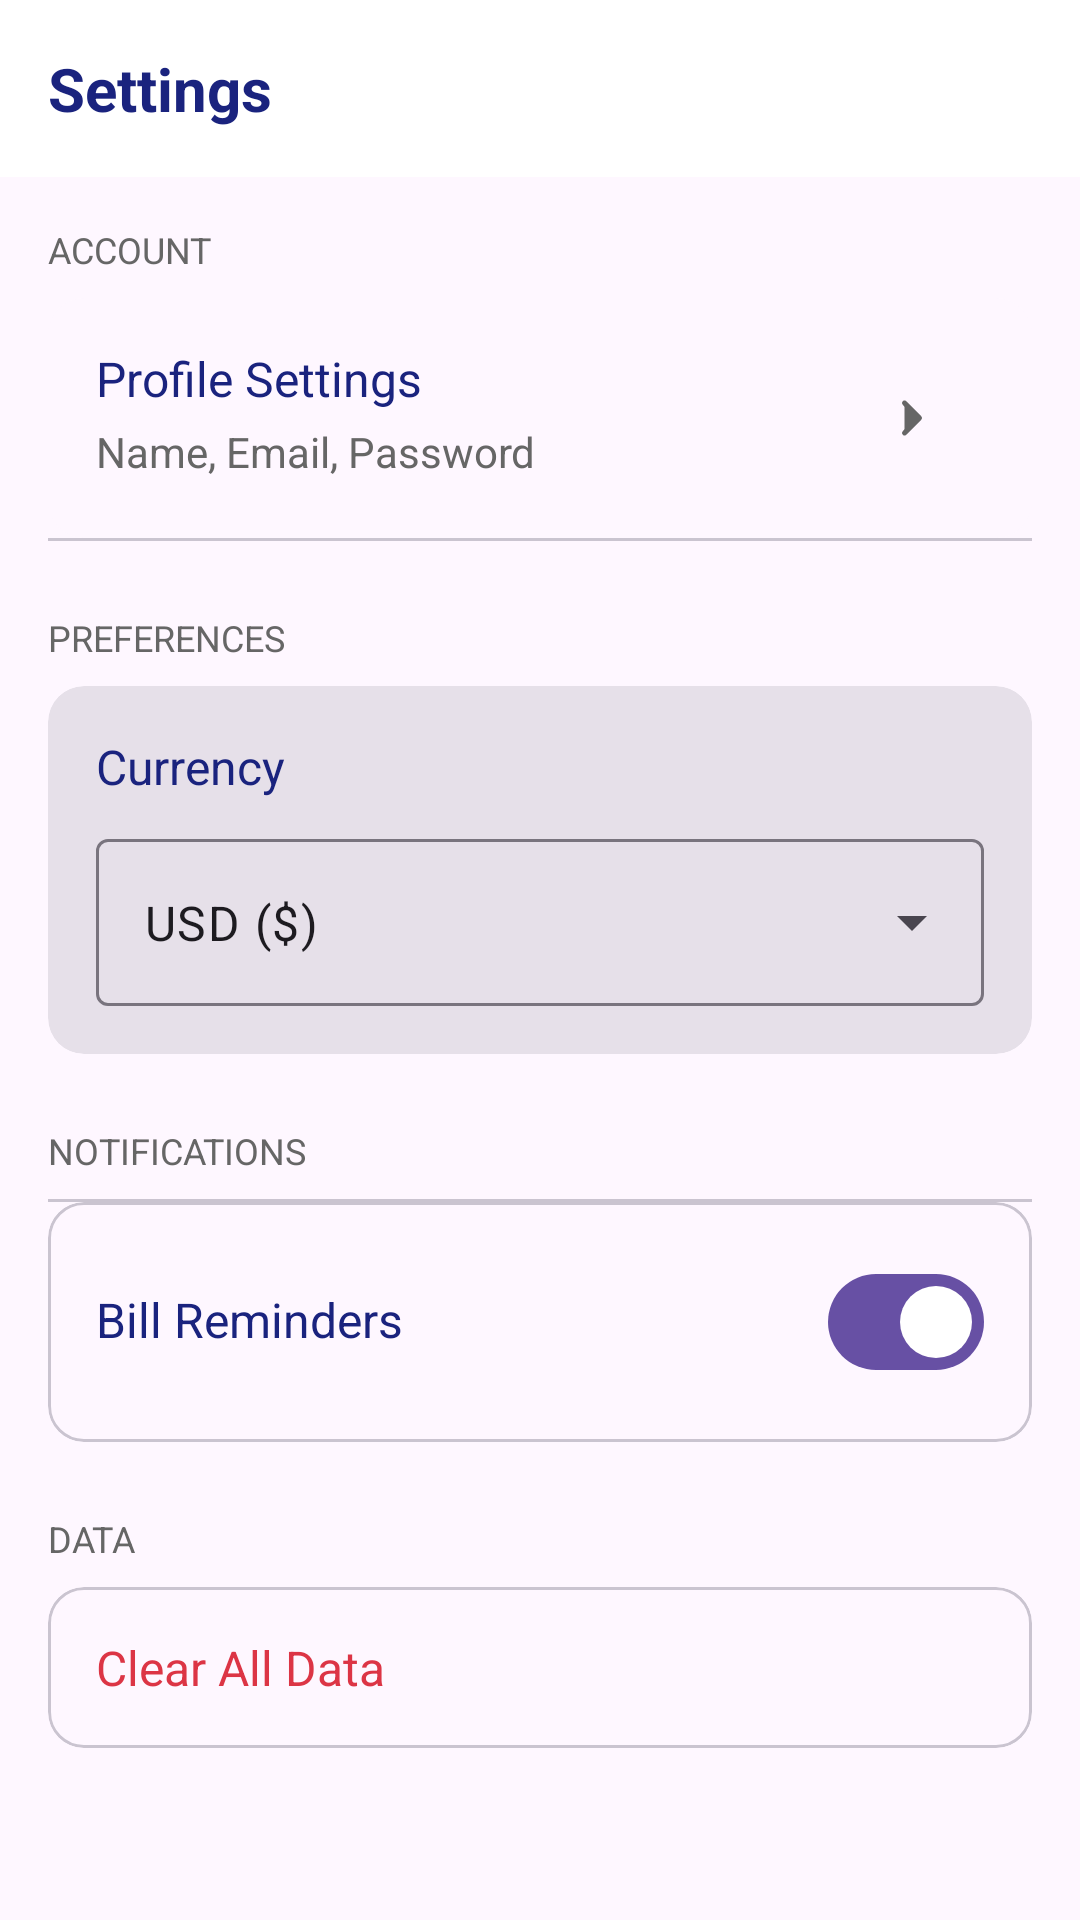

Screen size 1080px×1920px. Icon name, then its center in pixels as point (x, y):
chevron right: point (912, 418)
